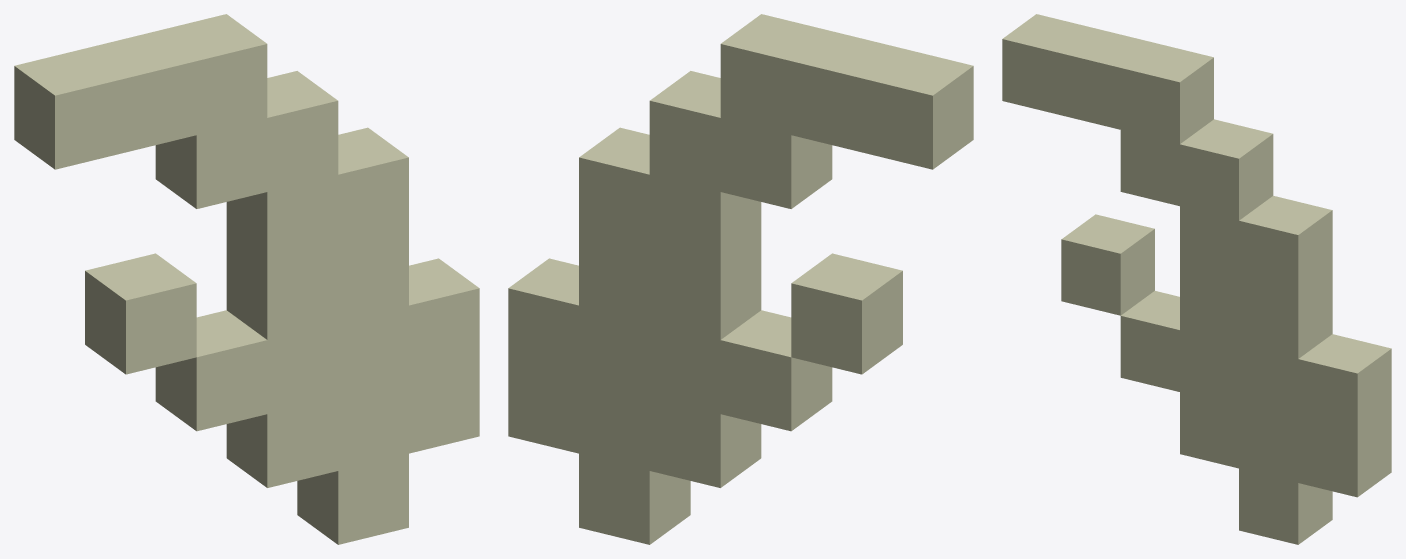
The model's file is Gauntlet-Tan.vox.obj.
3 views of the same model, side by side, from view 1: azimuth 30°, elevation 25°; view 2: azimuth 150°, elevation 25°; view 3: azimuth 330°, elevation 25° (orthographic). The views are drawn at different scales.
Bounding box in the file's own units: 0.6 × 0.7 × 0.1.
1 material, 1 textured.
